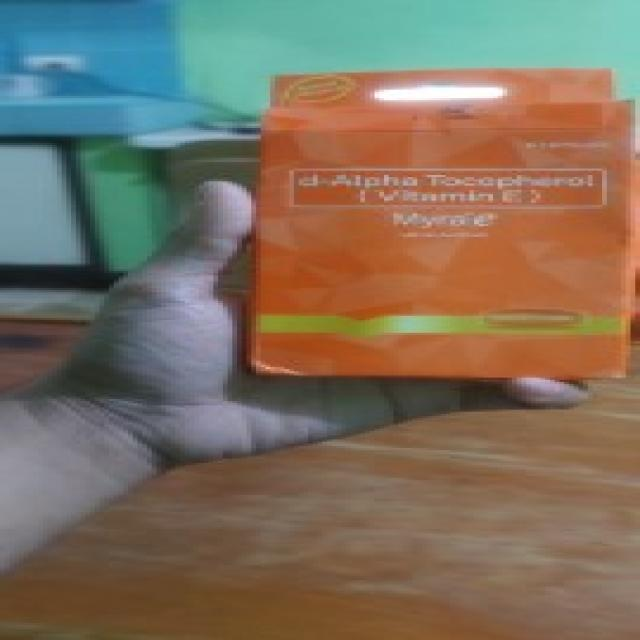Cacat: (255, 67, 626, 380)
